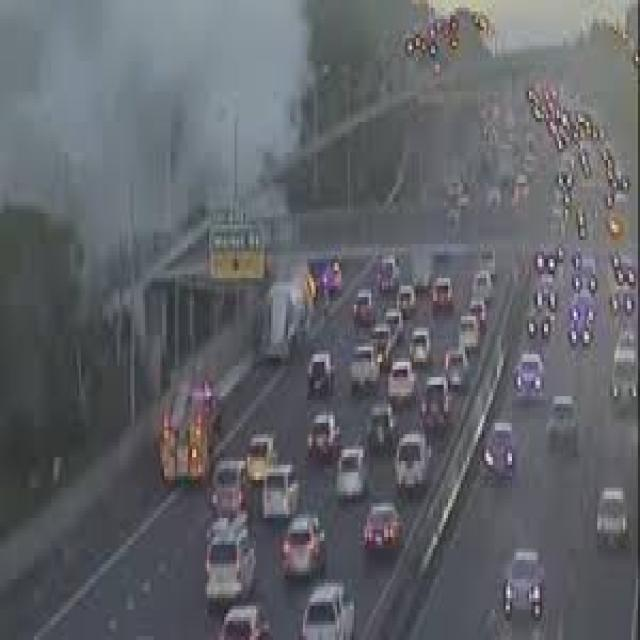Smoke: (0, 0, 318, 324)
